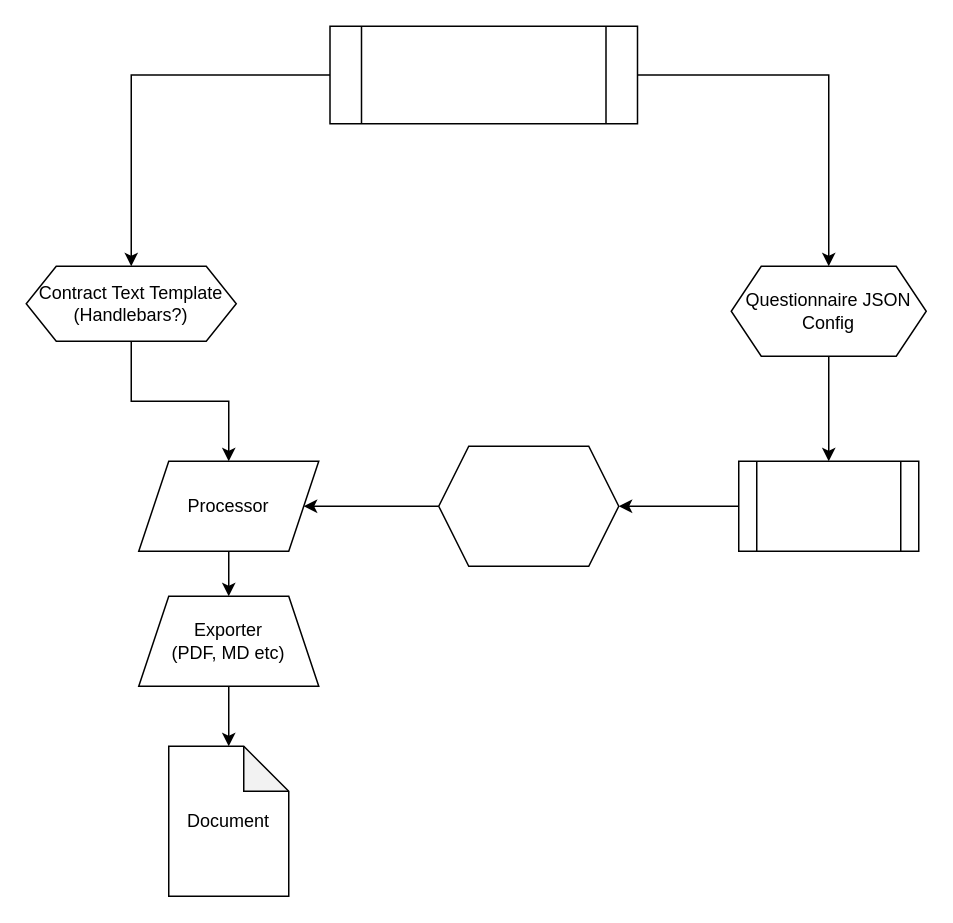
This 953x923 diagram has some shape labels left out. Each missing label, with the centre of its shape:
"Contract Template Configurator" belongs at point 483,74.
"Questionnaire Results" belongs at point 528,505.
"Questionnaire User Interface" belongs at point 828,505.
